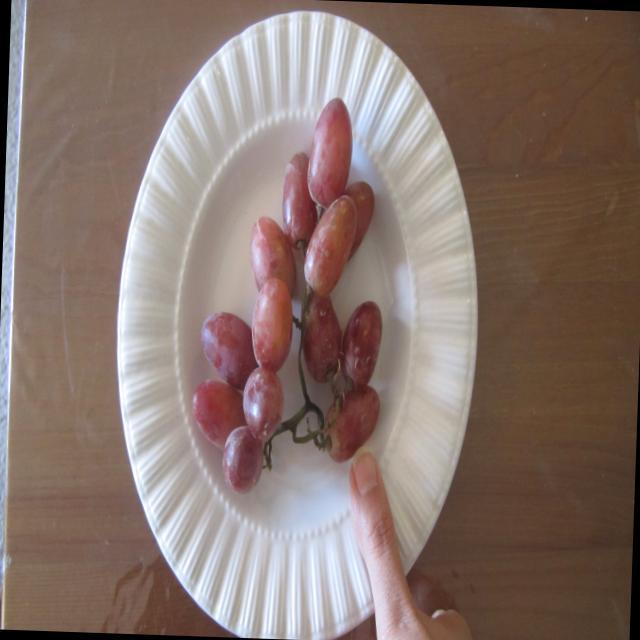Finger: (342, 447, 402, 570)
Grapes: (188, 86, 404, 443)
